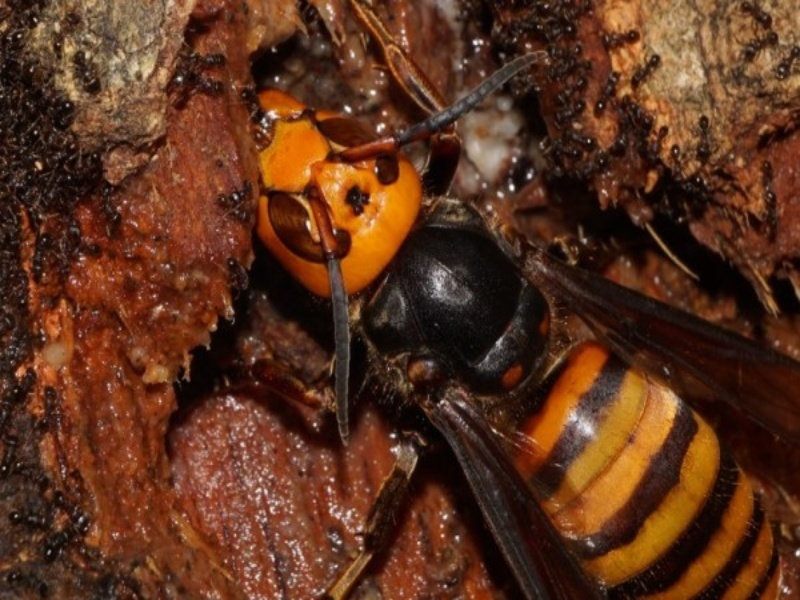asian_giant_hornet: (229, 76, 800, 600)
